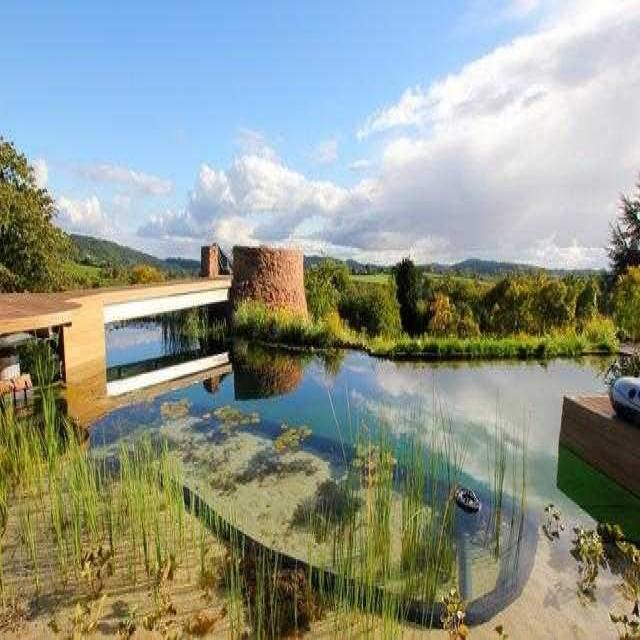Ponds: (36, 316, 639, 640)
